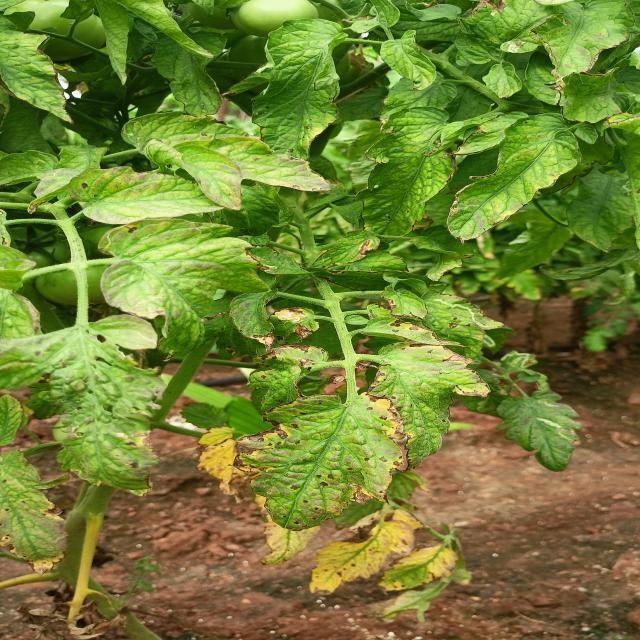Tomato mosaic virus leaf: (227, 388, 418, 536), (373, 341, 497, 472), (242, 342, 333, 422), (58, 166, 134, 224), (359, 316, 471, 352), (305, 228, 381, 272)
